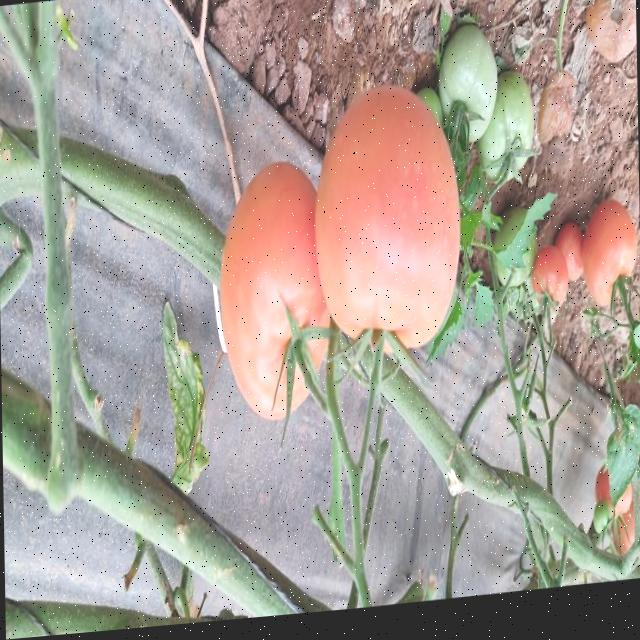Ripe Tomato: (315, 82, 467, 394), (215, 153, 327, 478), (588, 209, 640, 323), (530, 246, 568, 320), (615, 496, 640, 580), (598, 476, 630, 537), (562, 248, 586, 324)
Unripe Tomato: (442, 46, 498, 158), (484, 93, 540, 201)
